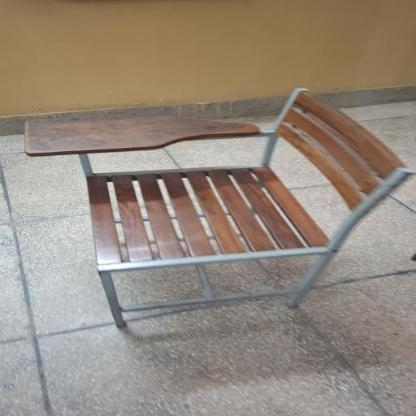chair: (19, 83, 414, 332)
